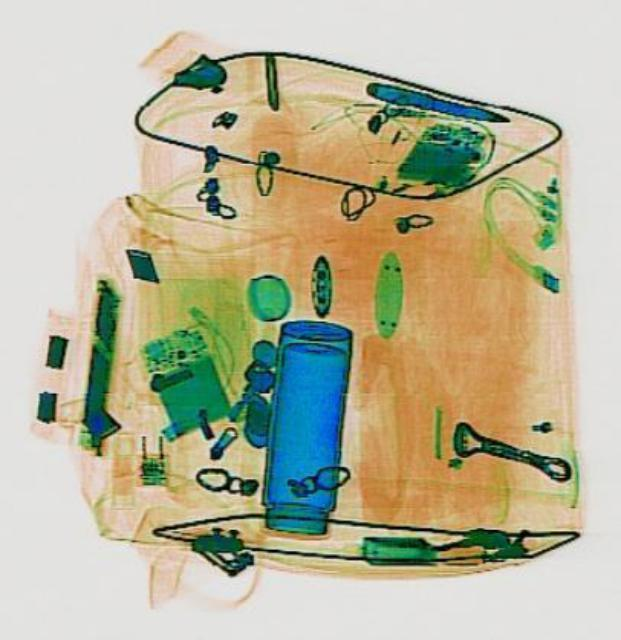Knife: (357, 75, 511, 127)
